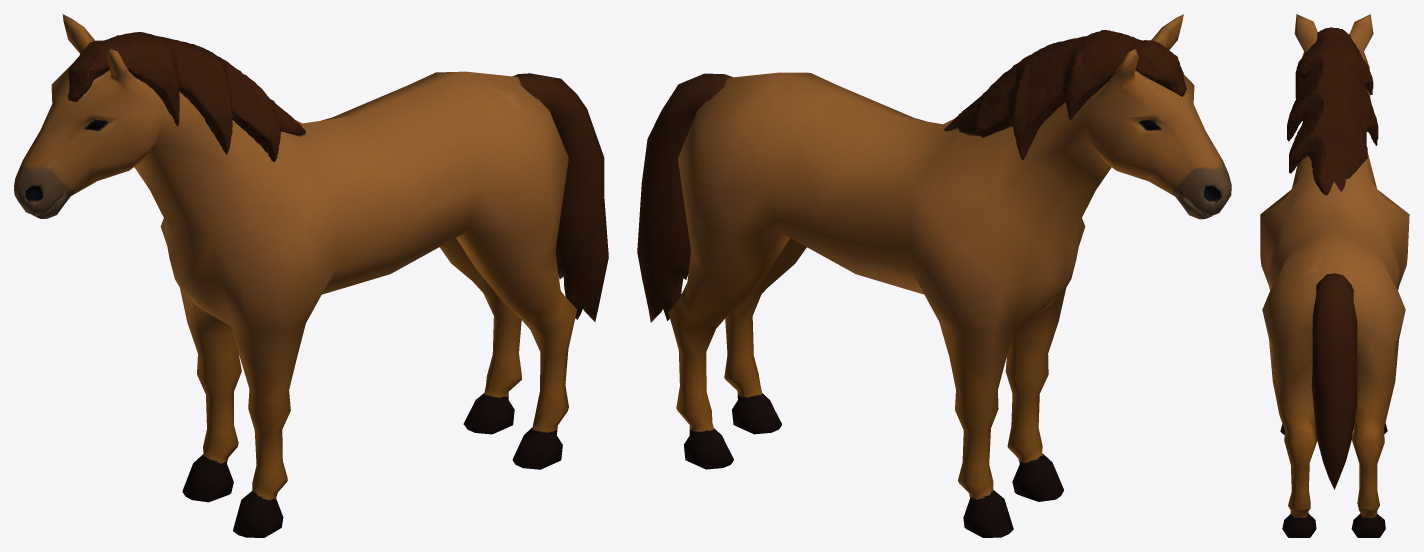
The model's file is Low Poly Brown Horse.glb.
3 views of the same model, side by side, from view 1: azimuth 30°, elevation 25°; view 2: azimuth 150°, elevation 25°; view 3: azimuth 270°, elevation 25° (orthographic). The views are drawn at different scales.
Parts seen in each view (by area): view 1: pb_node; view 2: pb_node; view 3: pb_node.
Part boxes in pixels (bbox=[...]): pb_node: bbox=[14, 14, 608, 537]; pb_node: bbox=[637, 14, 1231, 537]; pb_node: bbox=[1260, 14, 1409, 537].
Size of the model in its own units: 0.998 by 0.8379 by 0.3066.
Materials: 1 (1 with a texture image).
